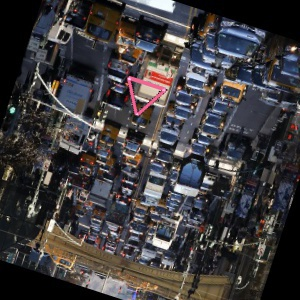triangle: (124, 74, 168, 117)
